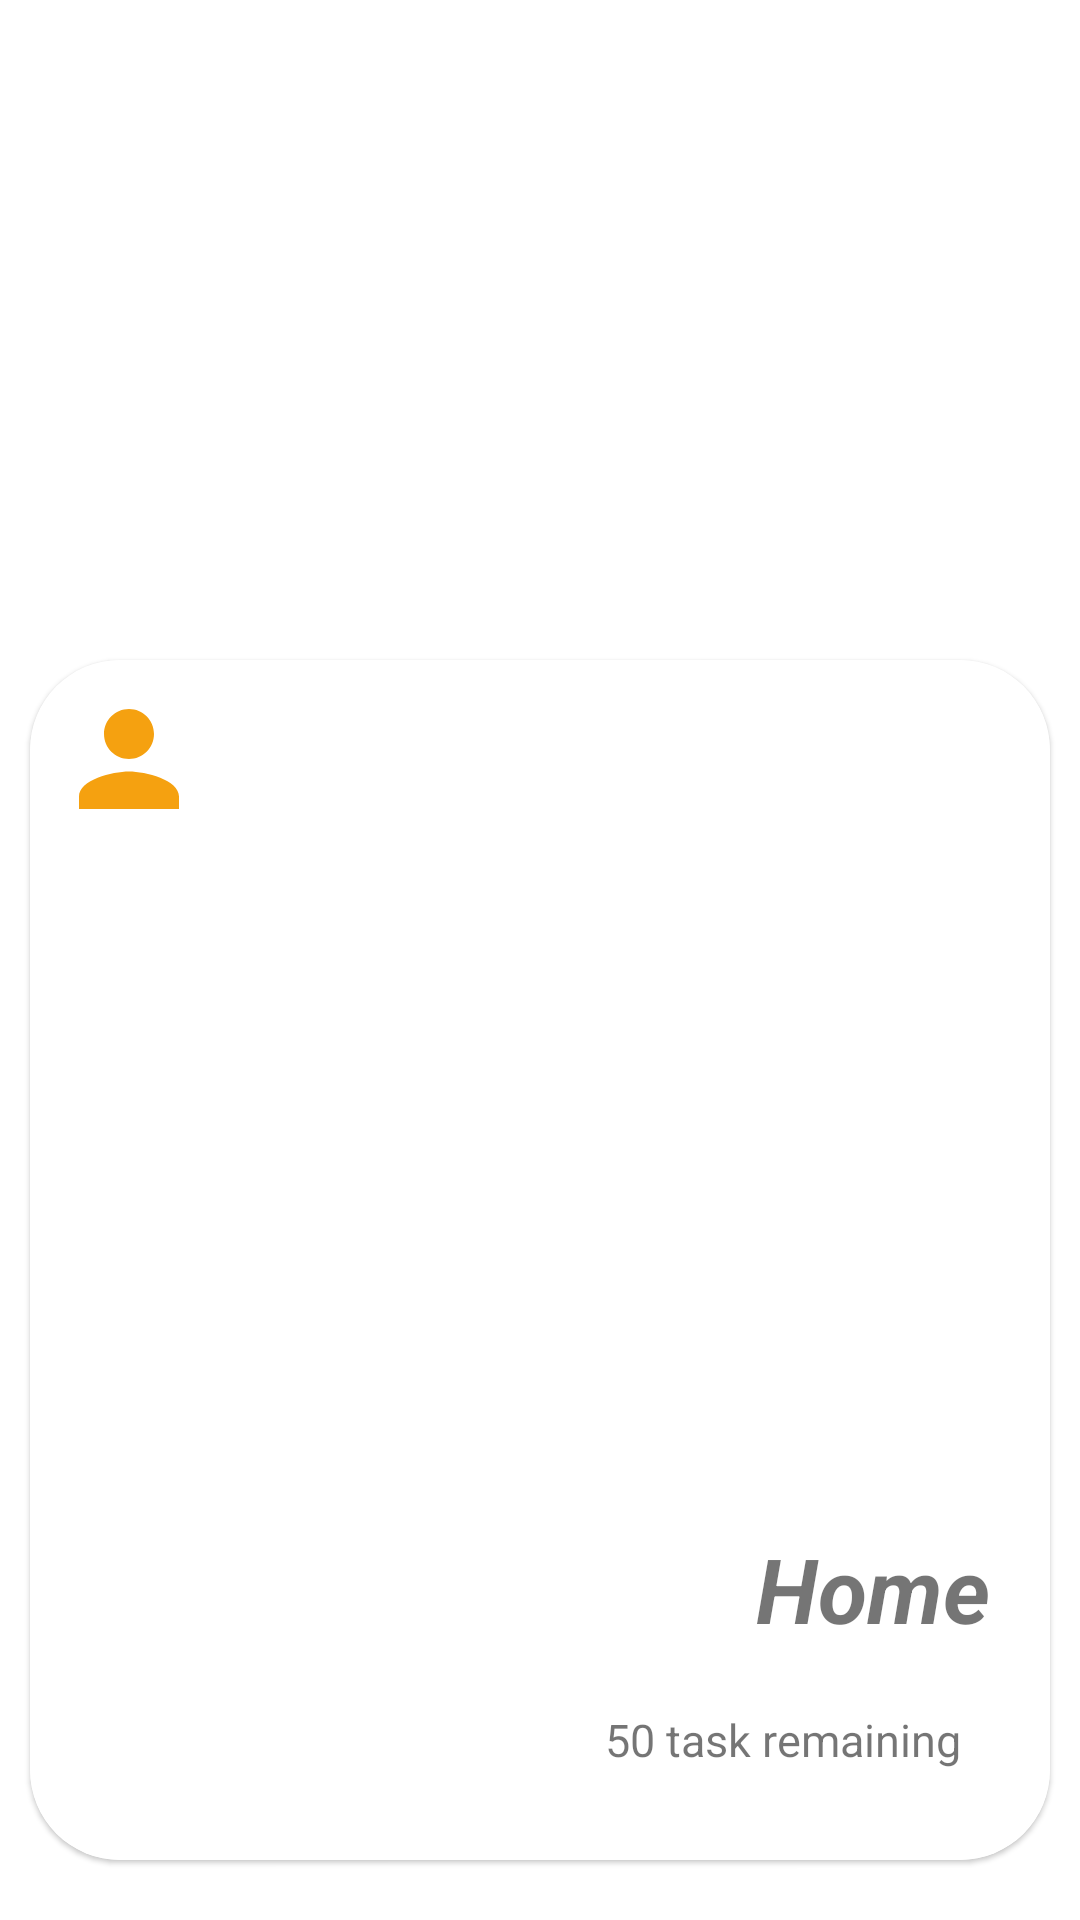

Icon bounding boxes for this 1080px x 1920px phone screenshot, format (x1, y1, x2, y2):
person: (79, 709, 179, 809)
